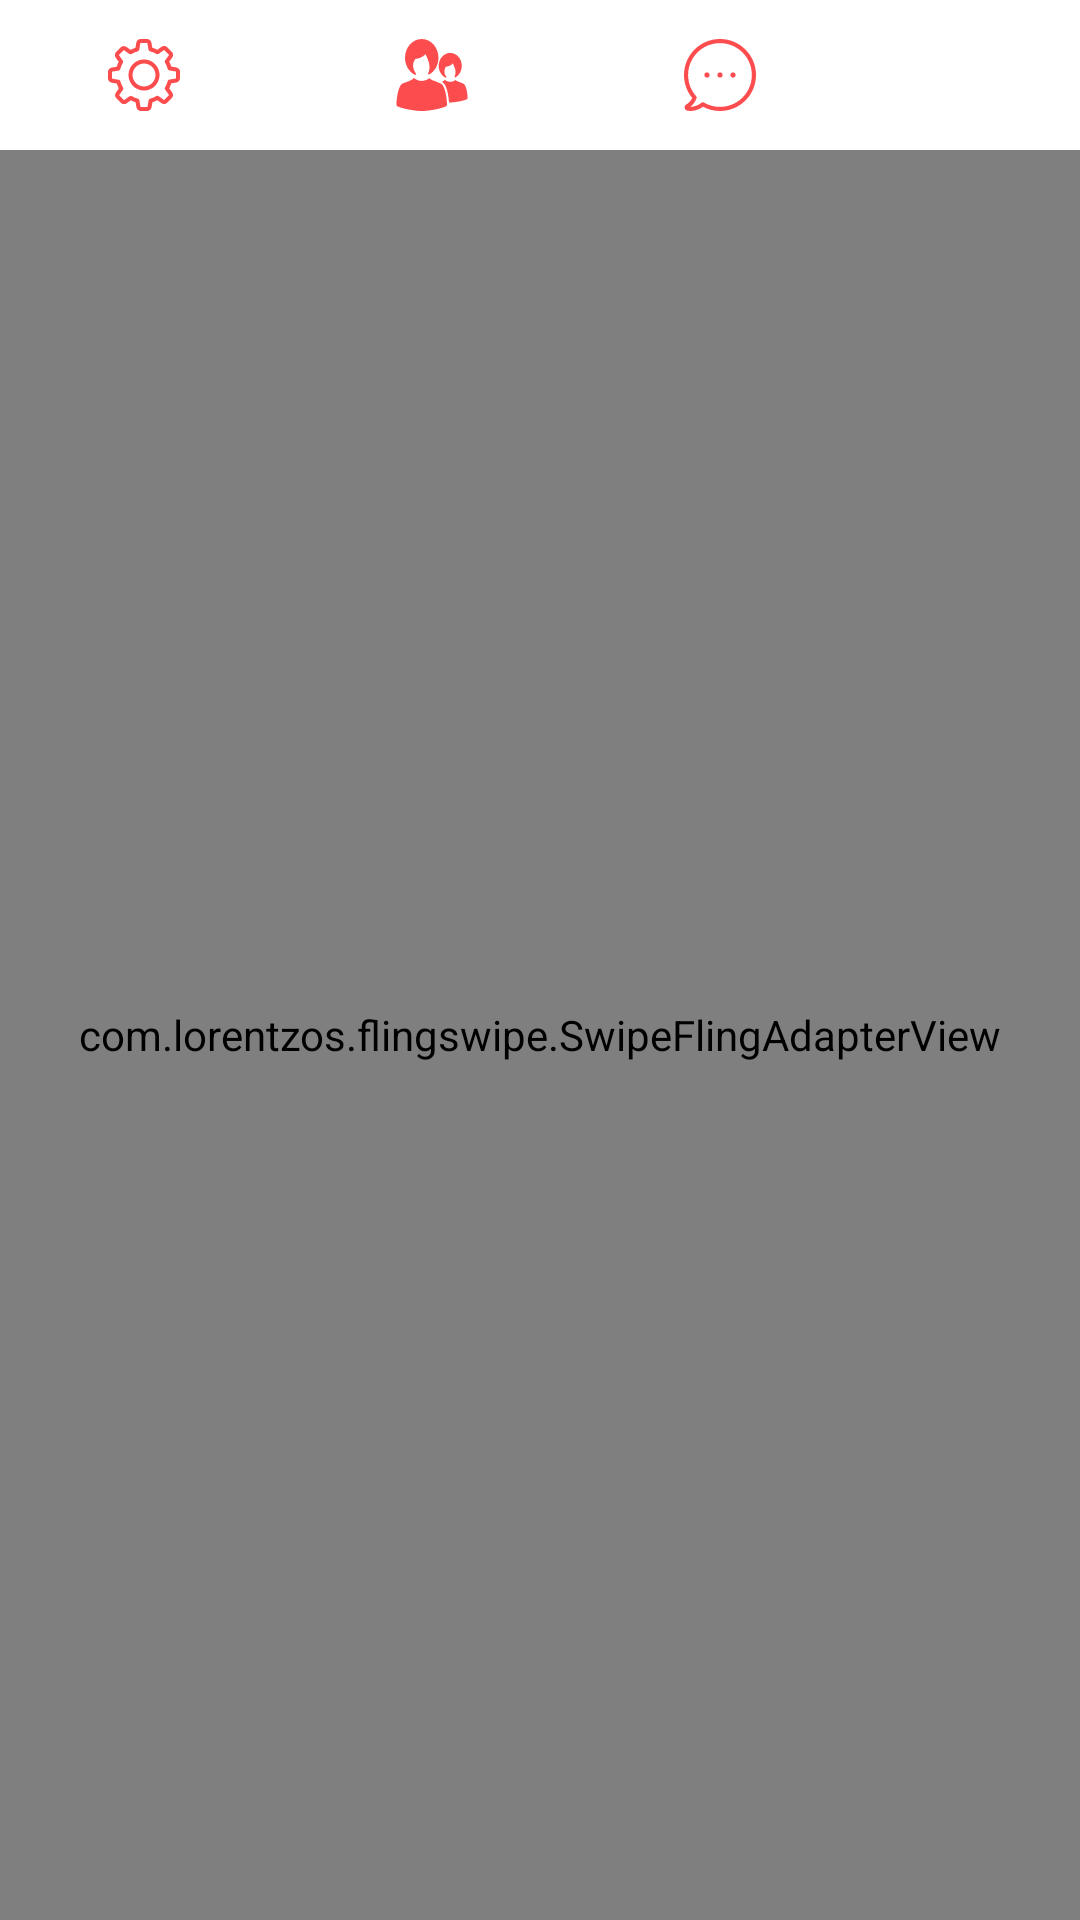

Where icons sit on this 1080x1920 app screen, as detection(x1, y1, x2, y2):
chat: detection(684, 39, 756, 111)
settings: detection(108, 39, 180, 111)
